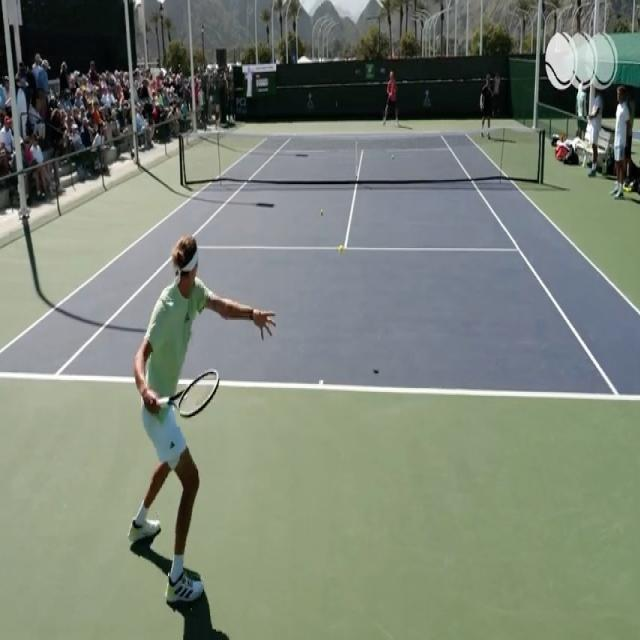forehand-ready: (129, 223, 276, 607)
